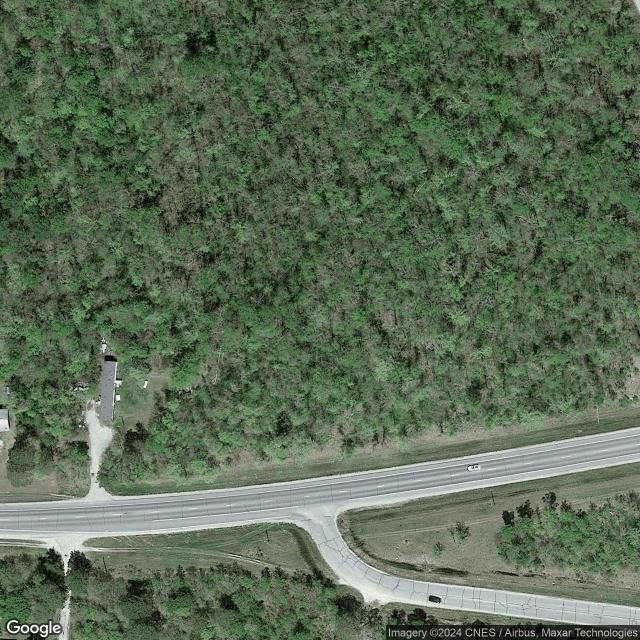Propane: (142, 378, 150, 390), (6, 385, 11, 396)
